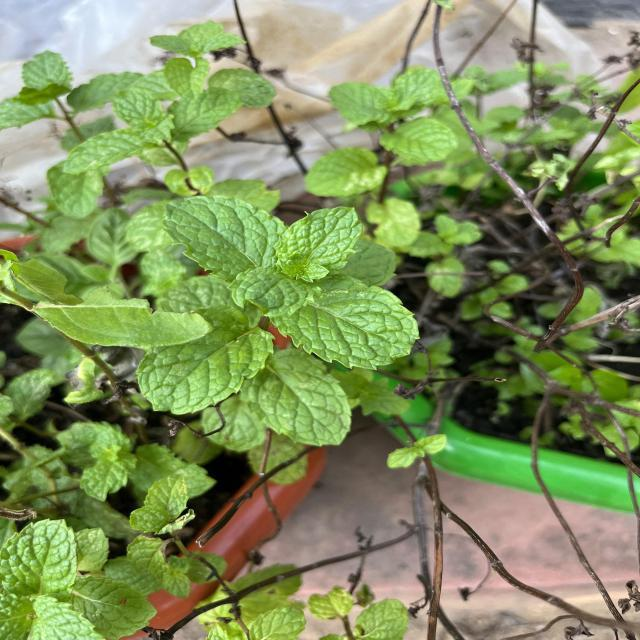Mentha spicata: (136, 304, 276, 416), (270, 272, 422, 370), (161, 194, 289, 283), (273, 204, 366, 284)
